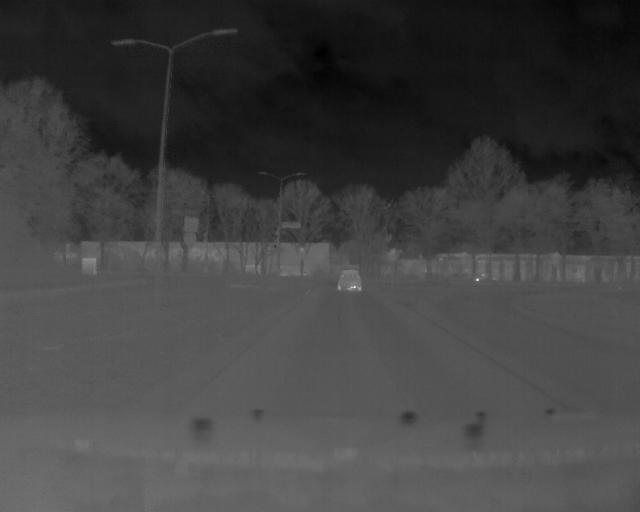car: (330, 265, 366, 295)
